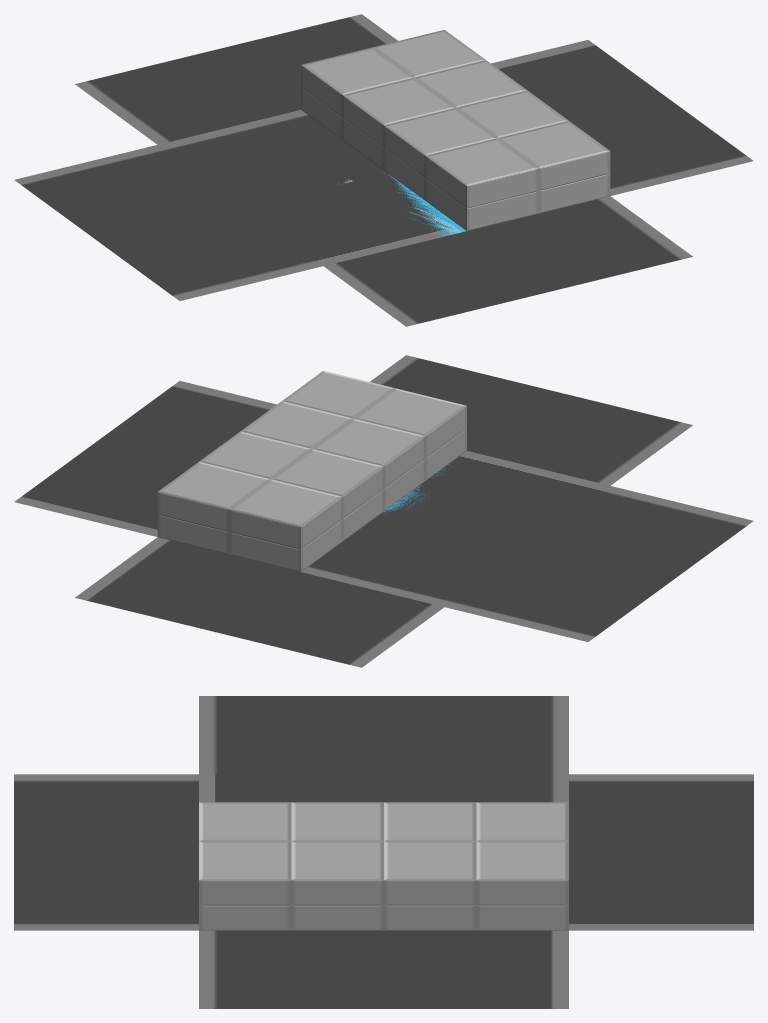
The model's file is Models.fbx.
The picture shows the model from 3 angles, top to bottom: view 1: azimuth 30°, elevation 25°; view 2: azimuth 150°, elevation 25°; view 3: azimuth 270°, elevation 25°; orthographic projection. The views are drawn at different scales.
Visible parts, largest first — view 1: Road Rotate, Border, Road fork, Road, Water; view 2: Road Rotate, Road fork, Border, Road; view 3: Road Rotate, Road fork, Border, Road.
Boxes of the visible parts, left/top/right/bottom form: Road Rotate: left=14, top=110, right=692, bottom=326; Border: left=301, top=30, right=610, bottom=230; Road fork: left=75, top=14, right=753, bottom=195; Road: left=279, top=163, right=456, bottom=265; Water: left=388, top=174, right=466, bottom=236; Road Rotate: left=301, top=355, right=753, bottom=641; Road fork: left=14, top=381, right=444, bottom=667; Border: left=157, top=371, right=466, bottom=571; Road: left=389, top=451, right=609, bottom=517; Road Rotate: left=14, top=696, right=568, bottom=930; Road fork: left=199, top=774, right=753, bottom=1008; Border: left=199, top=802, right=568, bottom=930; Road: left=199, top=774, right=343, bottom=802.
Size of the model in its own units: 4 by 0.3 by 4.
